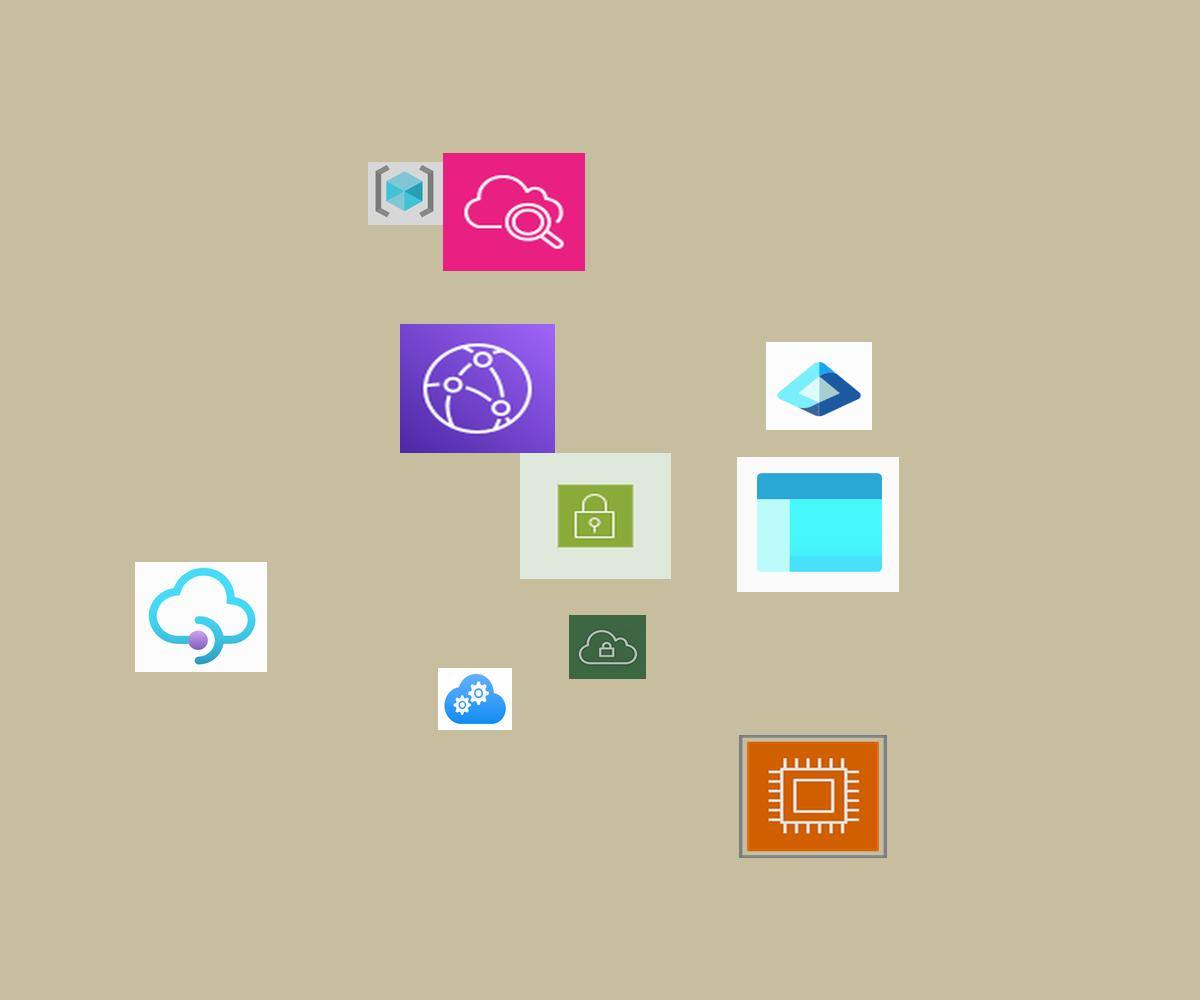AWS-Category_Compute: (739, 735, 887, 858)
AWS-CloudFront: (400, 324, 555, 453)
AWS-CloudWatch: (443, 153, 585, 271)
AWS-Private_vpc: (569, 615, 646, 679)
AWS-Public-subnet: (520, 453, 671, 579)
Azure_api_gateway: (135, 562, 267, 672)
Azure_cloud_services: (438, 668, 512, 730)
Azure_management-portal: (737, 457, 899, 592)
Azure_microsoft_entra: (766, 342, 872, 430)
Azure_resource_group: (368, 162, 444, 225)
